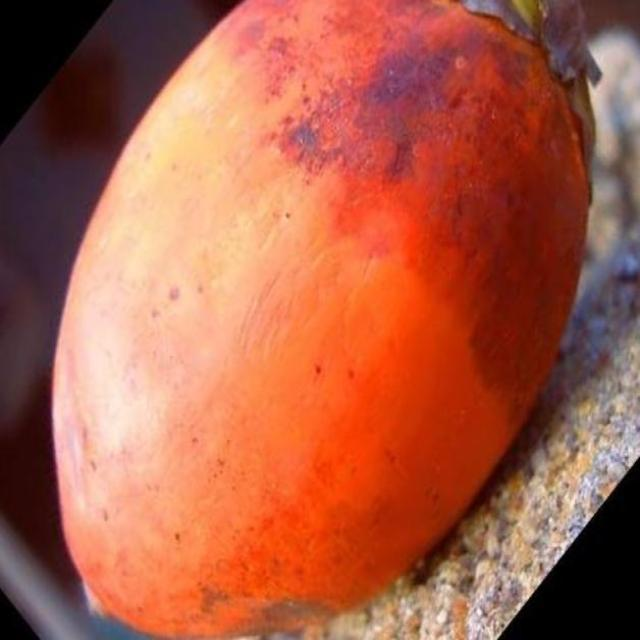good: (47, 0, 594, 639)
